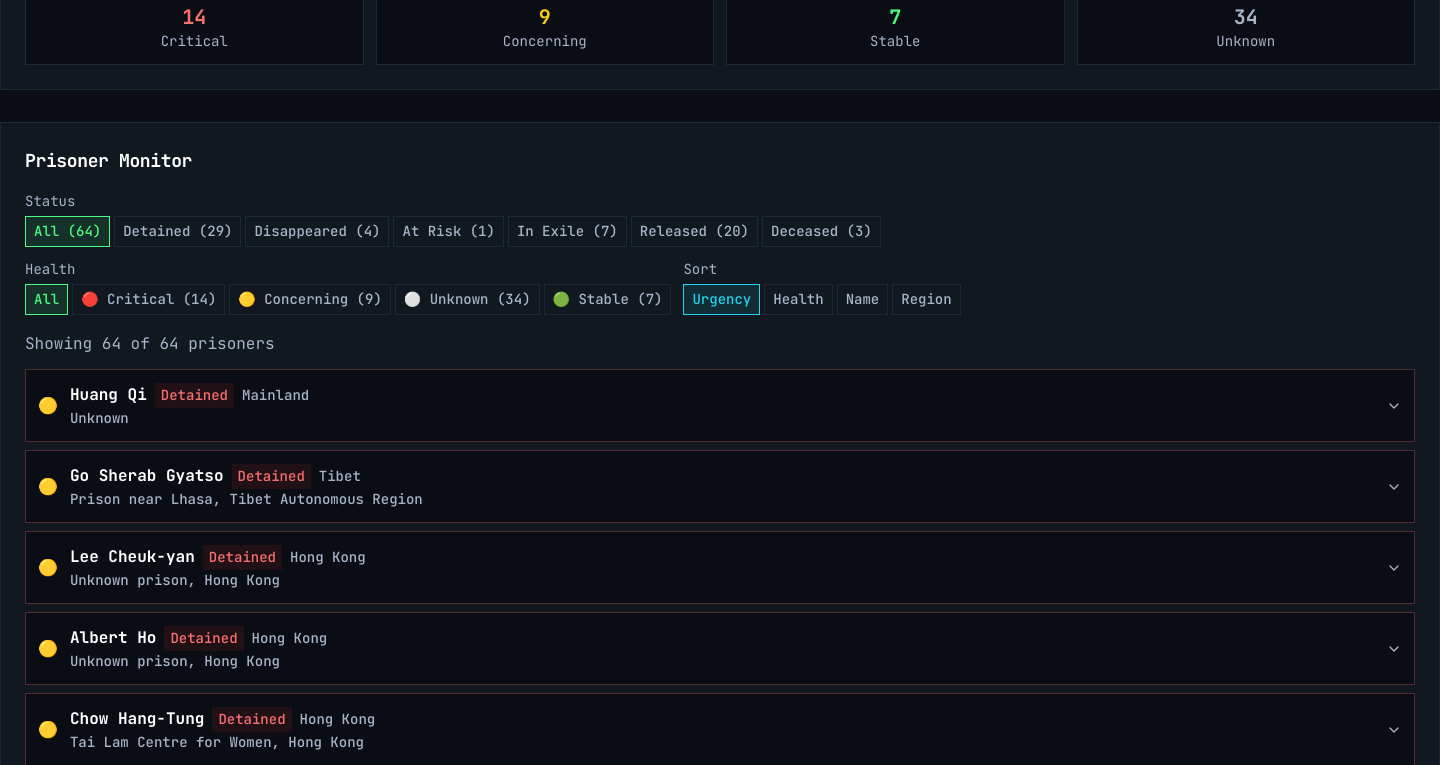
Test: PrisonerStatusDashboard › collapses prisoner details on second click
This screenshot has width=1440, height=765.
(page scrolled)
Click the button "🟡 Huang Qi Detained Mainland Unknown" at (108, 394), box [26, 370, 1414, 441]
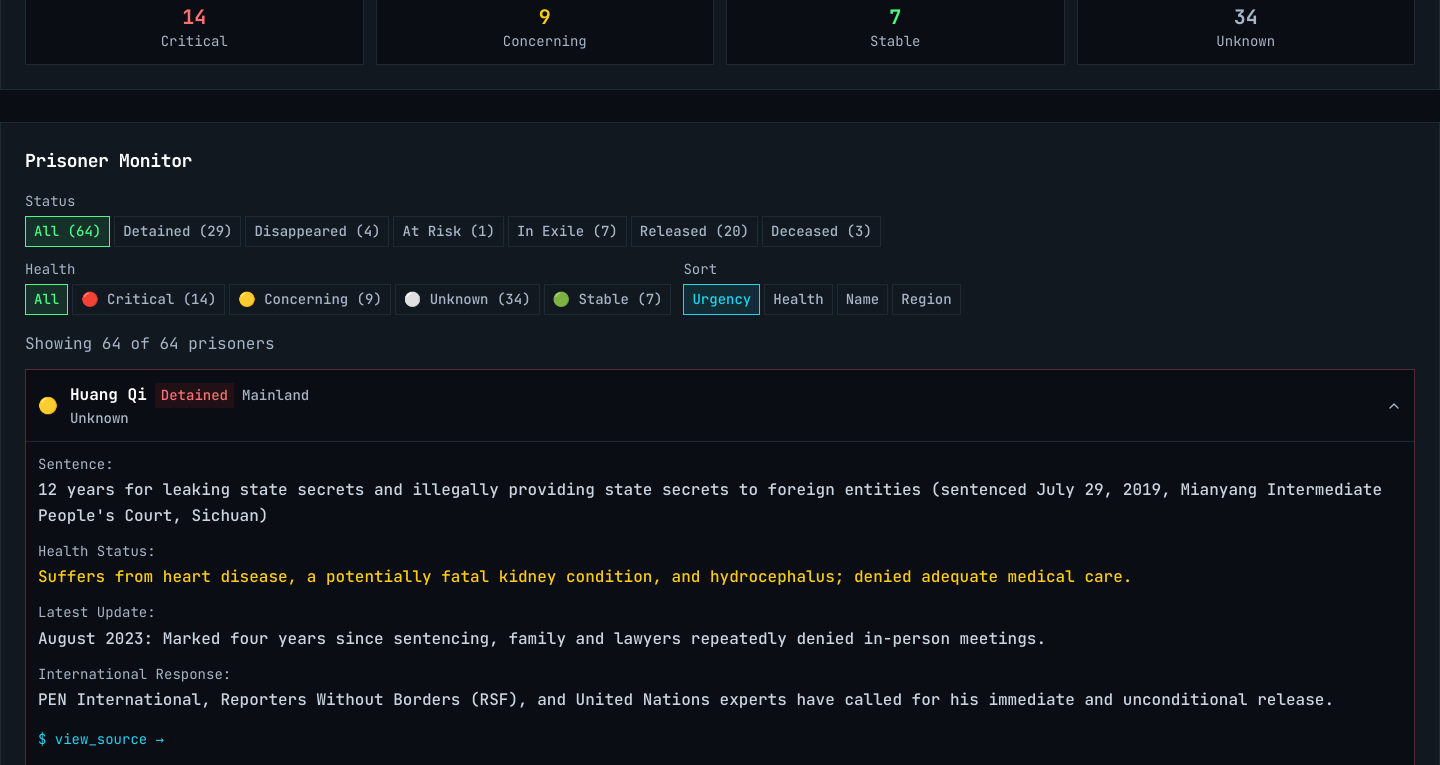
Expected: the button "🟡 Huang Qi Detained Mainland Unknown" is expanded
Click the button "🟡 Huang Qi Detained Mainland Unknown" at (108, 394), box [26, 370, 1414, 441]
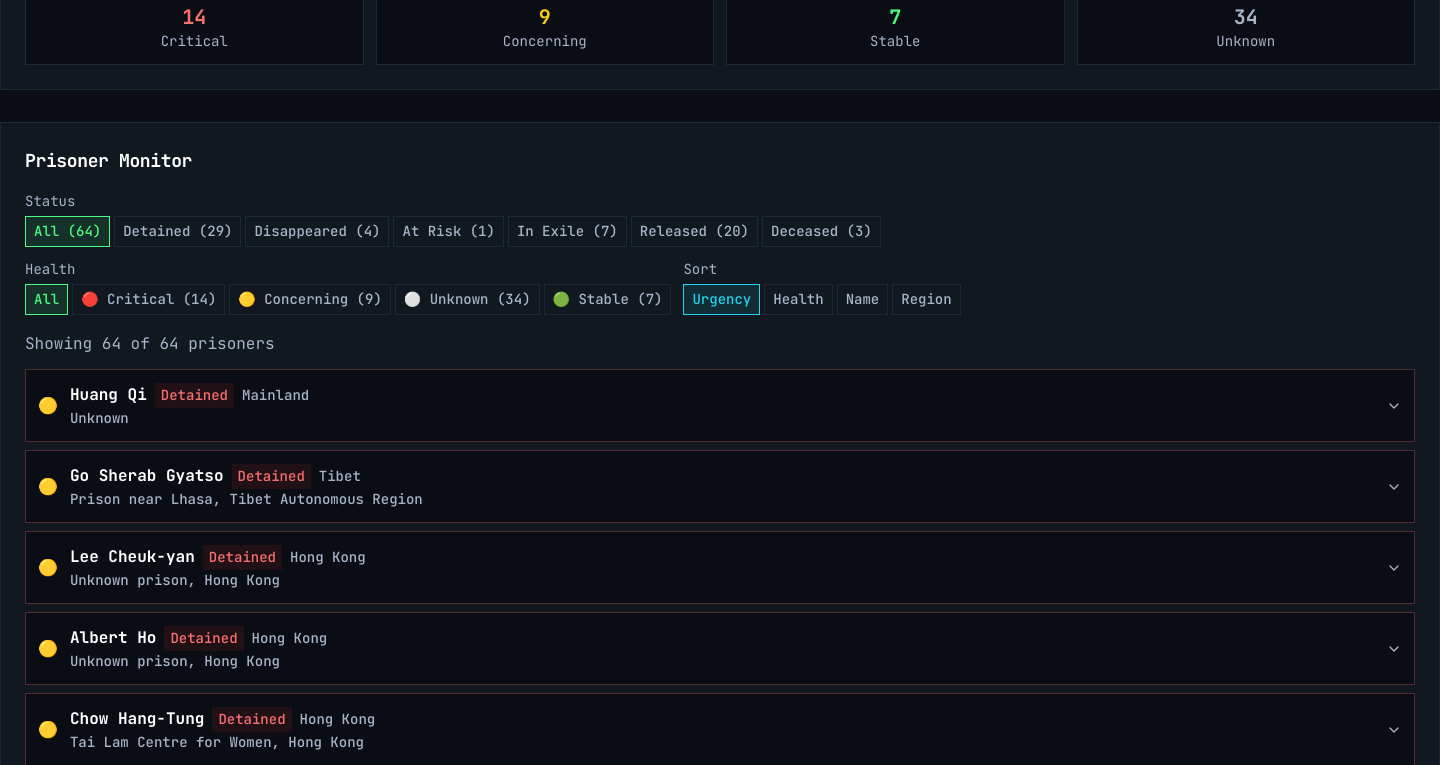
Expected: the button "🟡 Huang Qi Detained Mainland Unknown" is collapsed, [26, 370, 1414, 441]
